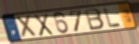6: (53, 11, 70, 35)
7: (68, 9, 84, 33)
B: (84, 8, 106, 32)
L: (103, 7, 123, 28)
X: (15, 14, 39, 39), (33, 13, 55, 37)
